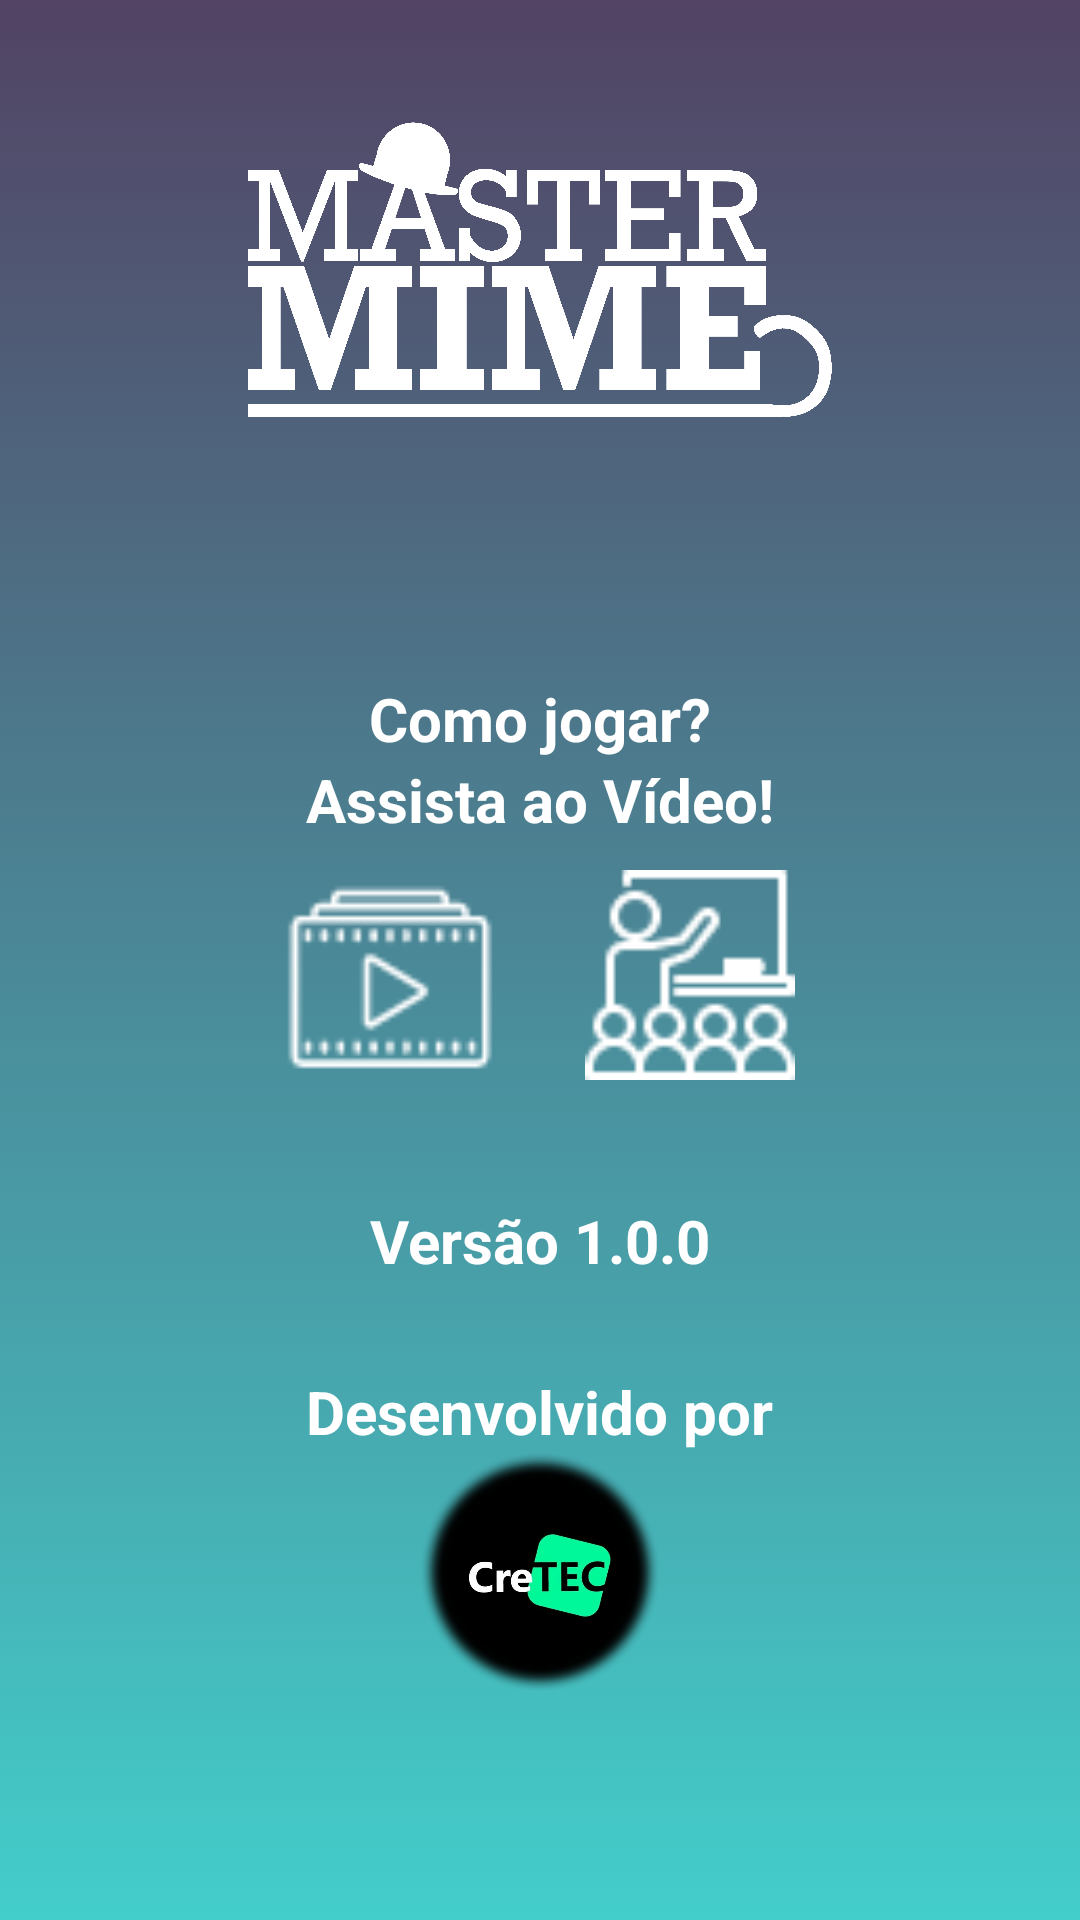

Screen size 1080*1920. Icon name, then its box in pixels as [left=x1, top=y1, right=x2, bottom=y2]:
teach: [left=585, top=870, right=795, bottom=1080]
video: [left=285, top=886, right=495, bottom=1080]
